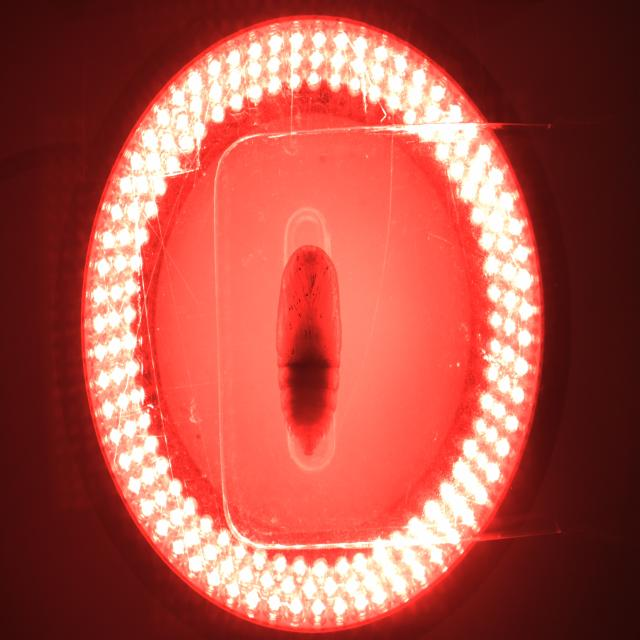female: (304, 431, 314, 449)
